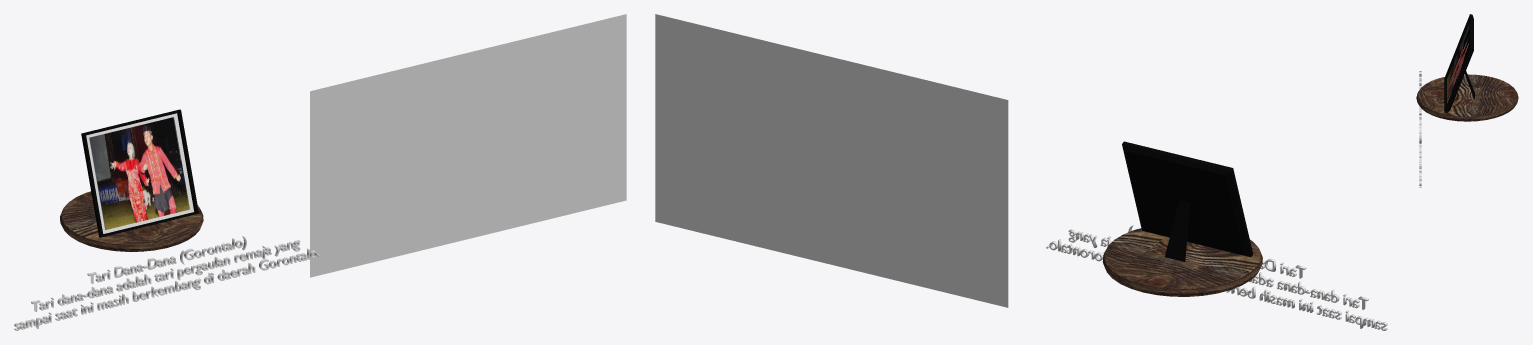
Rendered from 26. Tari Dana-Dana (Gorontalo).fbx.
The picture shows the model from 3 angles, left to right: view 1: azimuth 30°, elevation 25°; view 2: azimuth 150°, elevation 25°; view 3: azimuth 270°, elevation 25°; orthographic projection. The views are drawn at different scales.
Visible parts, largest first — view 1: Plane, Cube.013, Text.001; view 2: Plane, Cube.013, Text.001; view 3: Cube.013, Text.001.
Boxes of the visible parts, box(x1,y1,x2,y2) form: Plane: box(310, 14, 626, 277); Cube.013: box(60, 109, 203, 251); Text.001: box(14, 236, 320, 330); Plane: box(655, 14, 1008, 307); Cube.013: box(1102, 141, 1262, 296); Text.001: box(1046, 225, 1387, 330); Cube.013: box(1416, 14, 1518, 121); Text.001: box(1419, 71, 1421, 187).
Bounding box in the file's own units: 6404 × 1806 × 1260.
6 materials, 3 textured.
